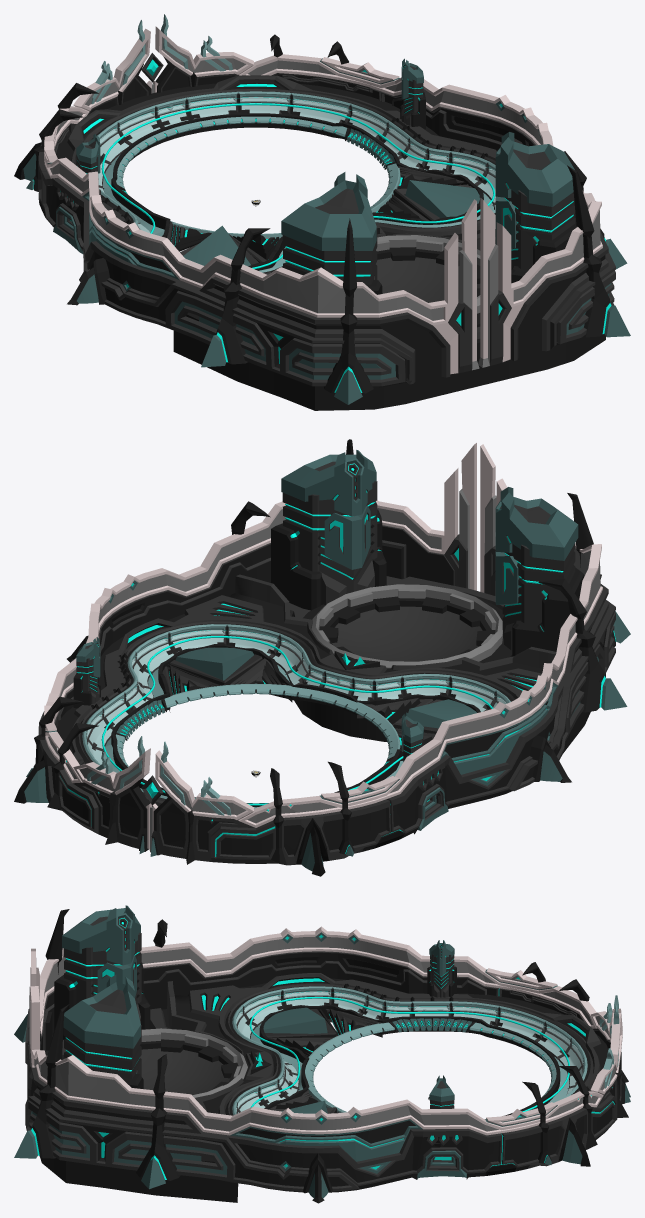
The model's file is arena_extremechallenger.fbx.
3 views of the same model, one above another, from view 1: azimuth 30°, elevation 25°; view 2: azimuth 150°, elevation 25°; view 3: azimuth 270°, elevation 25° (orthographic). The views are drawn at different scales.
Visible parts, largest first — view 1: Arena_Challenger; view 2: Arena_Challenger; view 3: Arena_Challenger.
Part boxes in pixels (box(x1,y1,x2,y2)): Arena_Challenger: box(14, 14, 630, 410); Arena_Challenger: box(14, 439, 630, 876); Arena_Challenger: box(14, 905, 630, 1203).
Bounding box in the file's own units: 41.5 × 16.29 × 48.96.
7 materials, 4 textured.
